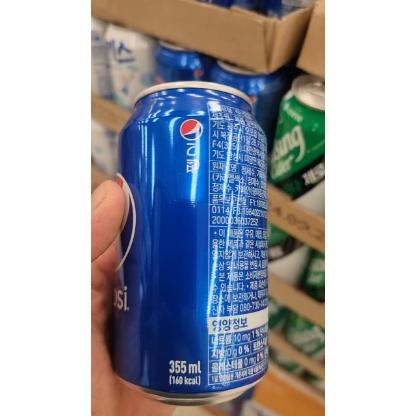Can: (110, 79, 270, 409)
